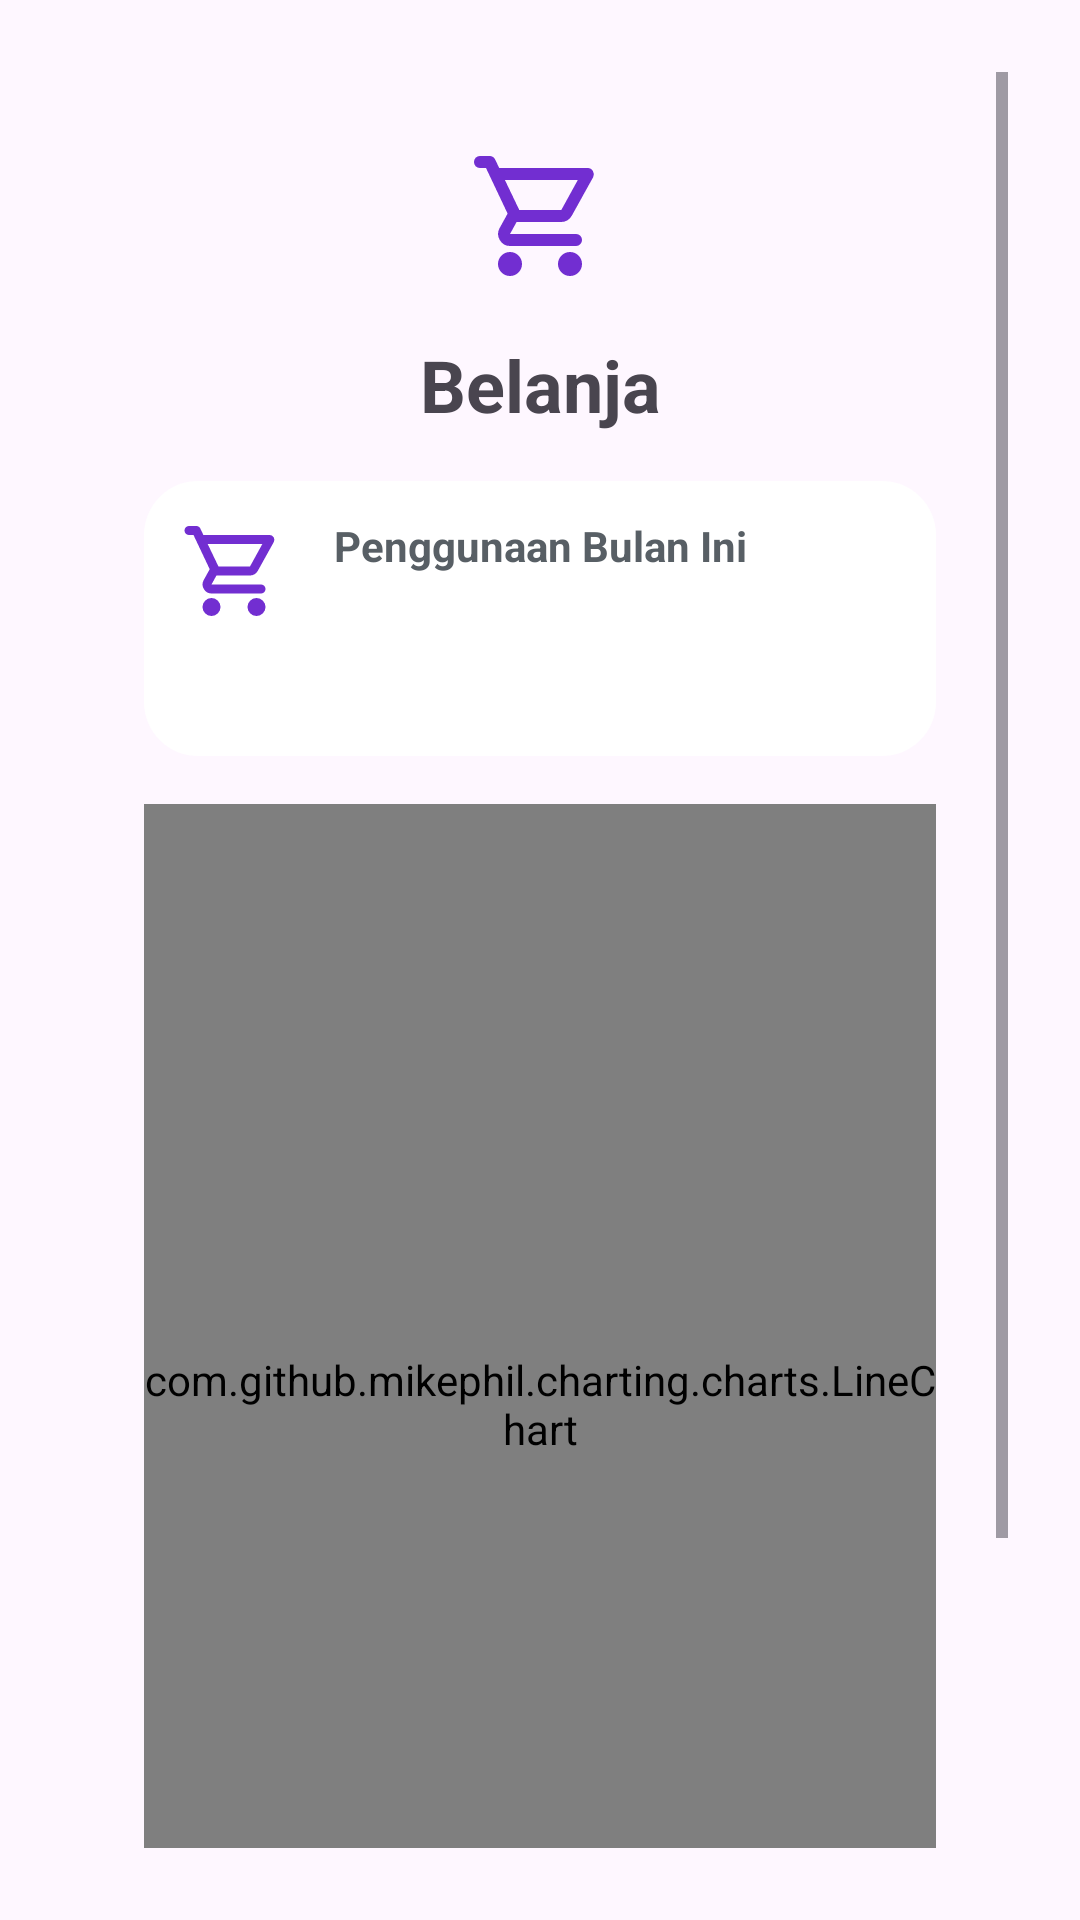

Locate icon controls on the screen. Image size 1080x1920, boxes as (x1, y1, x2, y2).
shopping cart: (474, 156, 594, 276), (184, 526, 275, 616)
